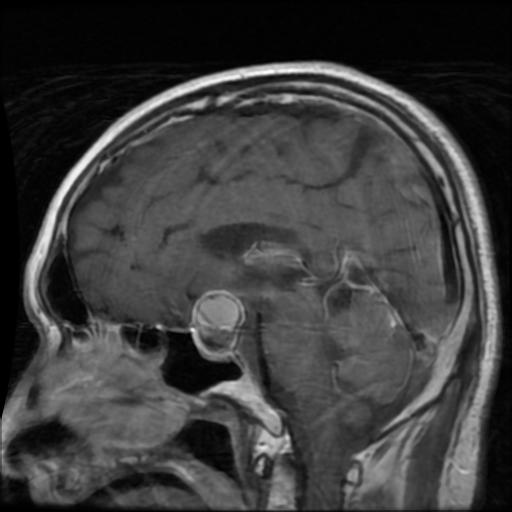Pituirity_tumour: (194, 288, 243, 342)
